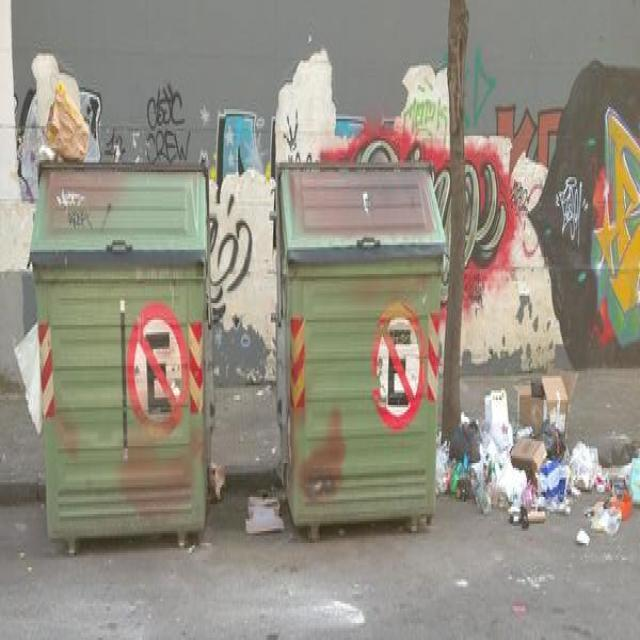garbage: (442, 347, 640, 540), (0, 51, 130, 160), (202, 427, 282, 560)
